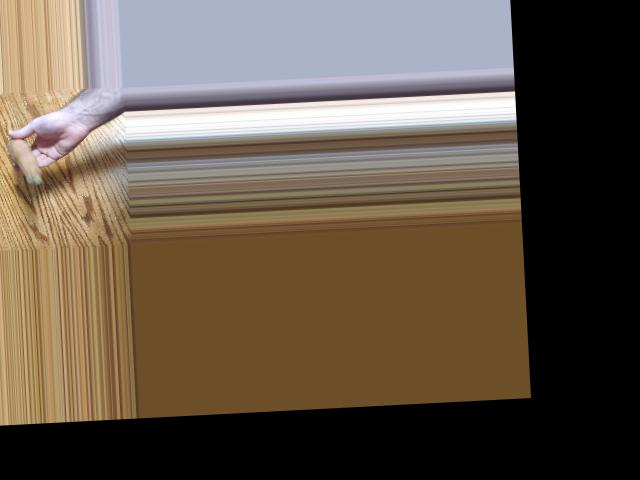sweet_potato: (7, 133, 45, 186)
